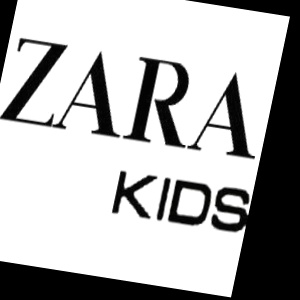zara: (267, 43, 282, 99)
